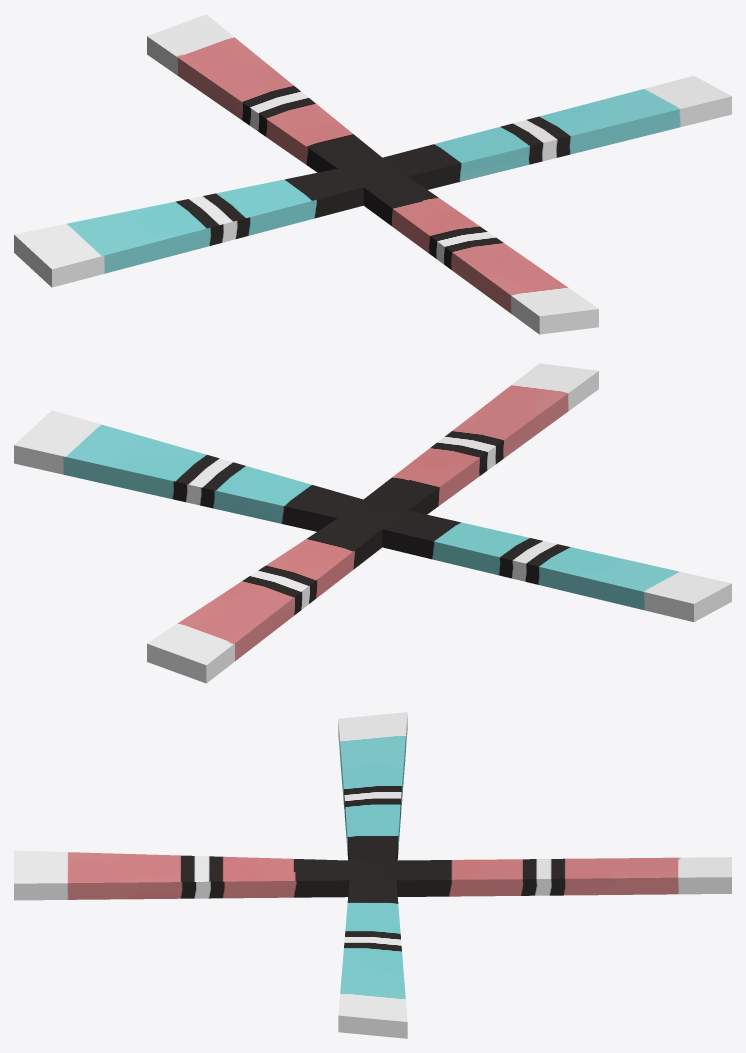
Rendered from drone_props_01.fbx.
3 renders of one model, top to bottom at view 1: azimuth 30°, elevation 25°; view 2: azimuth 150°, elevation 25°; view 3: azimuth 270°, elevation 25°, orthographic. The views are drawn at different scales.
Parts seen in each view (by area): view 1: prop_MASTER1; view 2: prop_MASTER1; view 3: prop_MASTER1.
Part boxes in pixels (box(x1,y1,x2,y2)): prop_MASTER1: box(14, 14, 731, 334); prop_MASTER1: box(14, 363, 731, 683); prop_MASTER1: box(14, 712, 731, 1038).
Size of the model in its own units: 2.81 by 0.1007 by 2.81.
